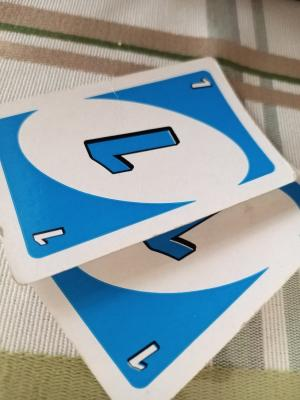blue: (8, 109, 250, 200), (71, 216, 236, 336)
num_1: (120, 334, 171, 380), (27, 225, 72, 248), (182, 71, 217, 95)
